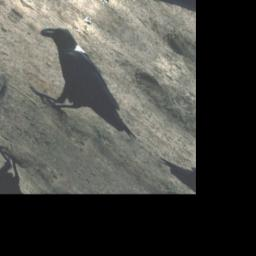Crow: (6, 15, 165, 163)
